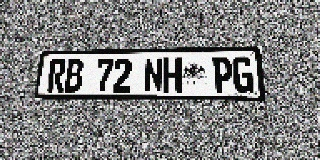2: (113, 58, 132, 92)
7: (95, 58, 114, 92)
B: (64, 59, 84, 92)
G: (232, 56, 254, 93)
H: (163, 57, 182, 92)
N: (144, 58, 163, 92)
P: (212, 57, 233, 93)
R: (47, 59, 67, 92)
